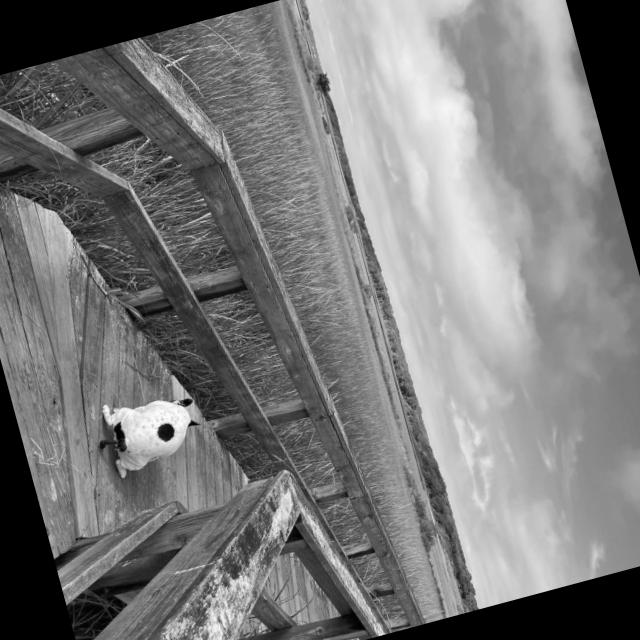squatting: (87, 374, 214, 488)
